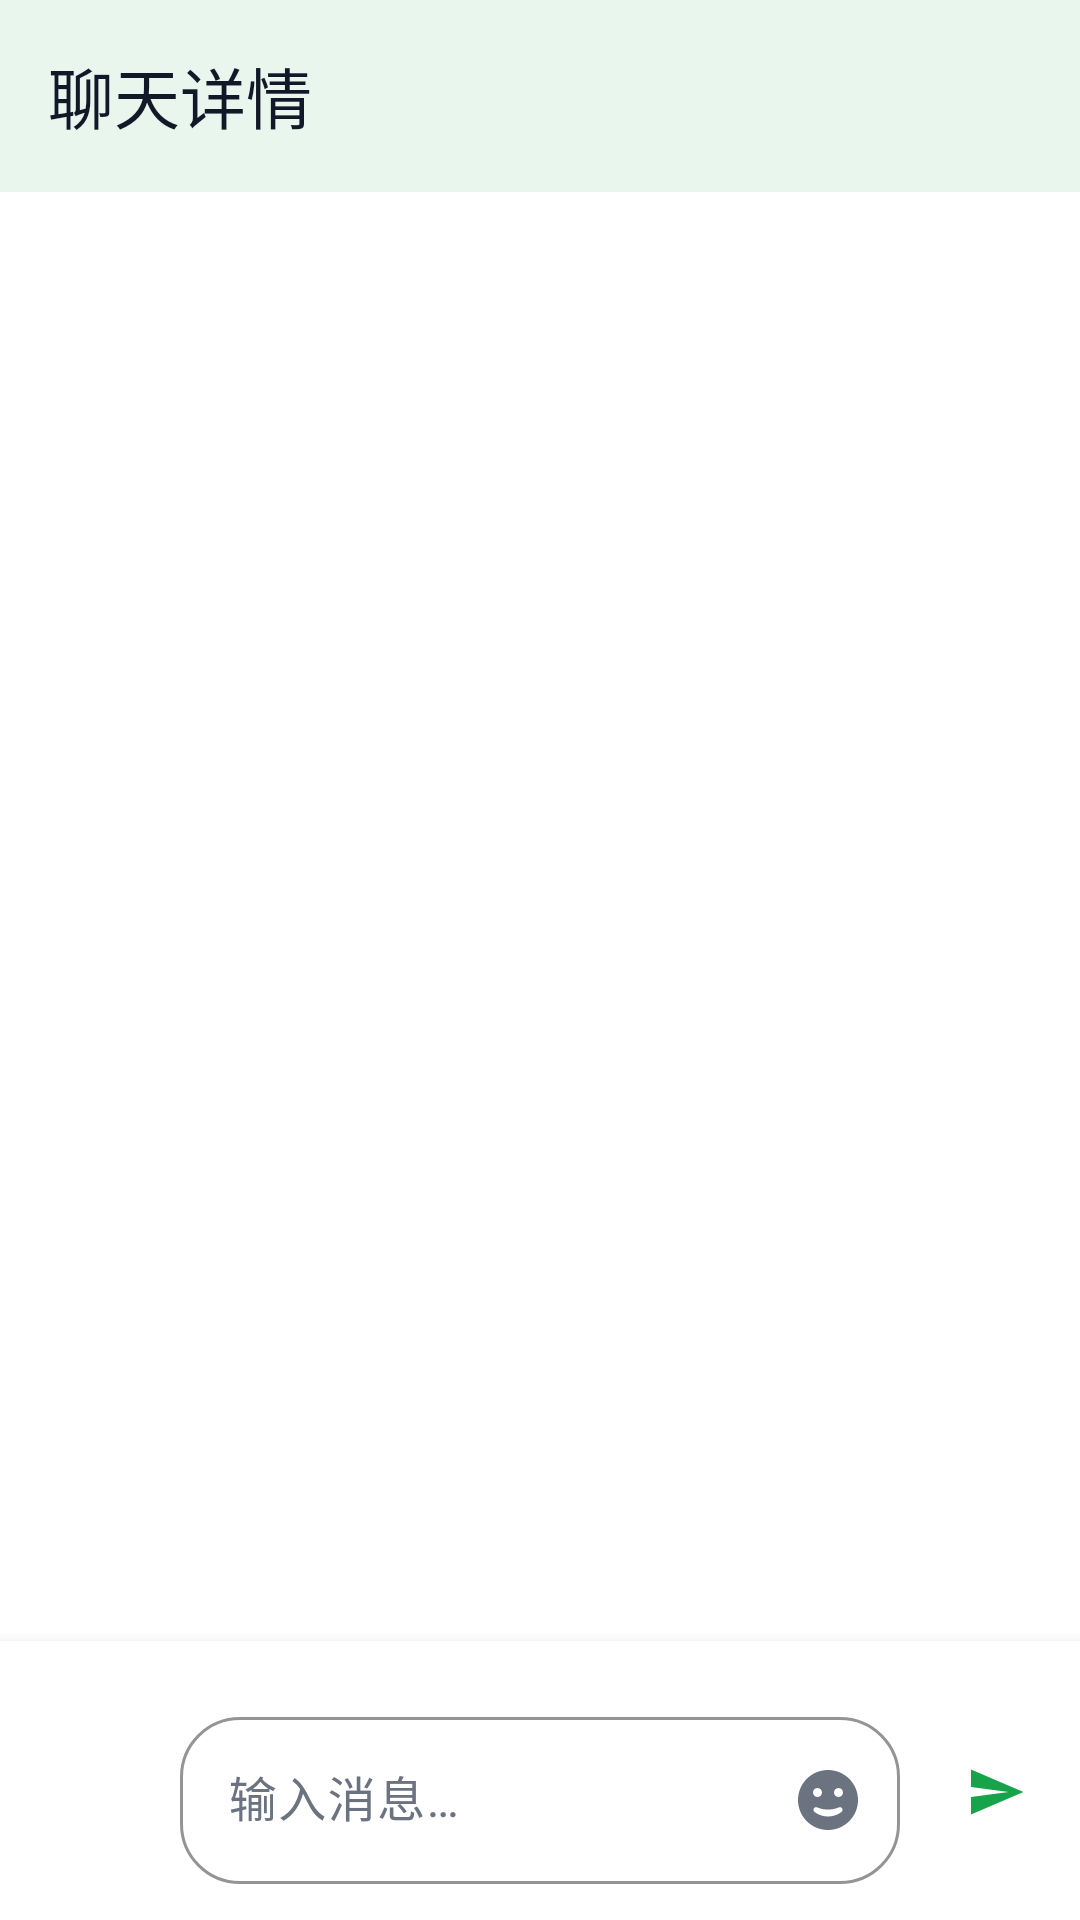

Icon click points for this 1080w x 1920h phone screenshot, format point (x, y):
send: point (997, 1792)
